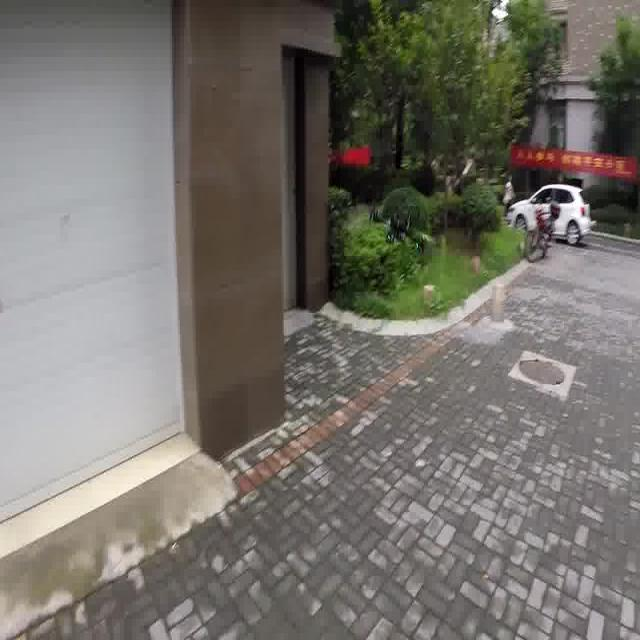drones: (367, 198, 437, 264)
